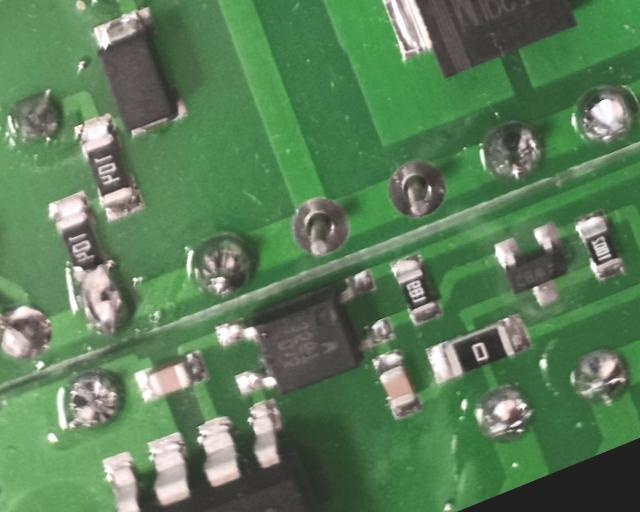chip-capacitor: (127, 345, 212, 409), (368, 347, 424, 423)
chip-resistor: (64, 108, 149, 226), (415, 308, 532, 389), (36, 185, 116, 291), (565, 203, 630, 288), (382, 251, 443, 331)
diode: (81, 0, 193, 143)
ic: (68, 388, 343, 512), (208, 264, 399, 408)
transistor: (485, 215, 581, 319)
